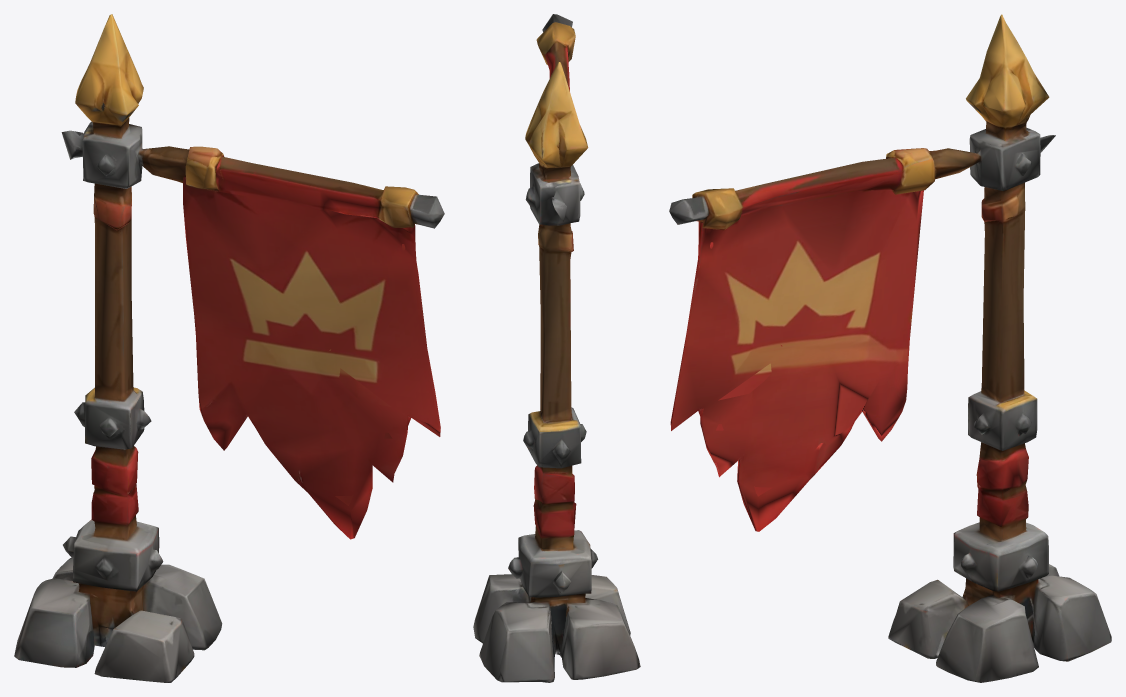
File: dec_banner.glb
3 views of the same model, side by side, from view 1: azimuth 30°, elevation 25°; view 2: azimuth 150°, elevation 25°; view 3: azimuth 270°, elevation 25° (orthographic). The views are drawn at different scales.
Visible parts, largest first — view 1: BakeLow; view 2: BakeLow; view 3: BakeLow.
Boxes of the visible parts, x1,y1,x2,y2 form: BakeLow: (14,14,444,682); BakeLow: (473,14,640,682); BakeLow: (669,14,1111,682).
Bounding box in the file's own units: 0.4122 × 0.9386 × 0.6044.
1 material, 1 textured.
